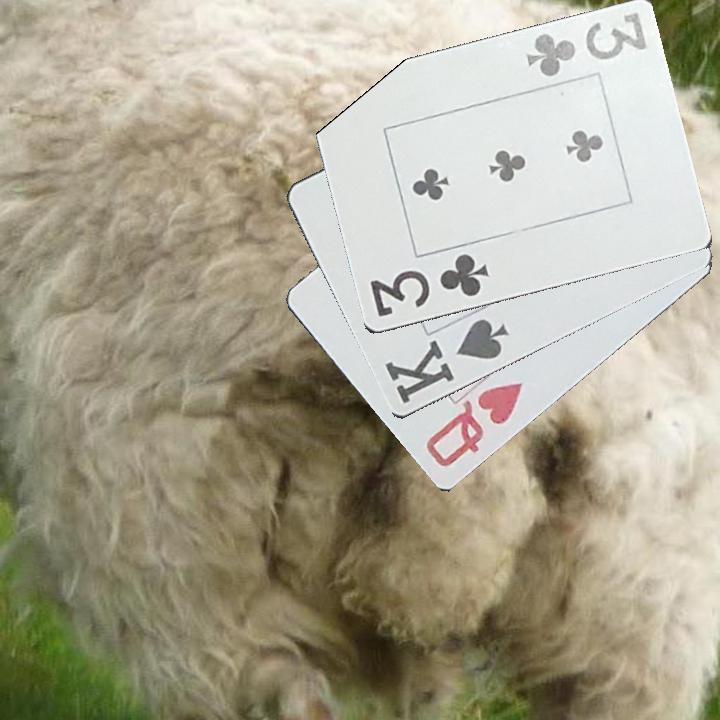3c: (522, 9, 650, 81), (366, 250, 492, 321)
Ks: (381, 315, 512, 407)
Qh: (419, 378, 526, 473)
